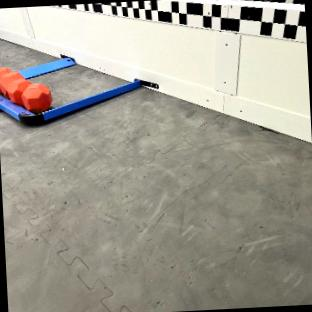V5_RED: (0, 66, 50, 112)
